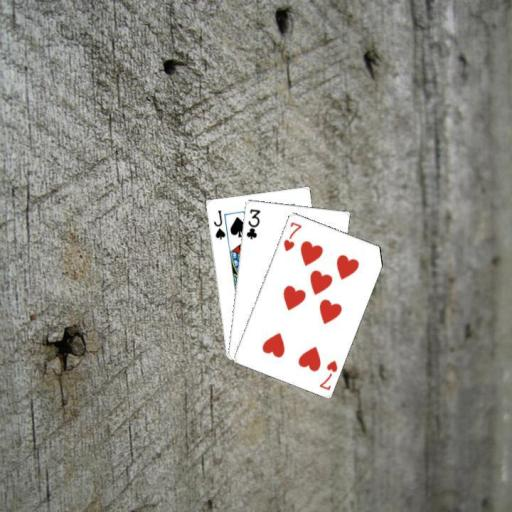3C: (243, 206, 262, 241)
7H: (316, 357, 339, 392), (280, 219, 303, 253)
JS: (210, 207, 227, 241)
